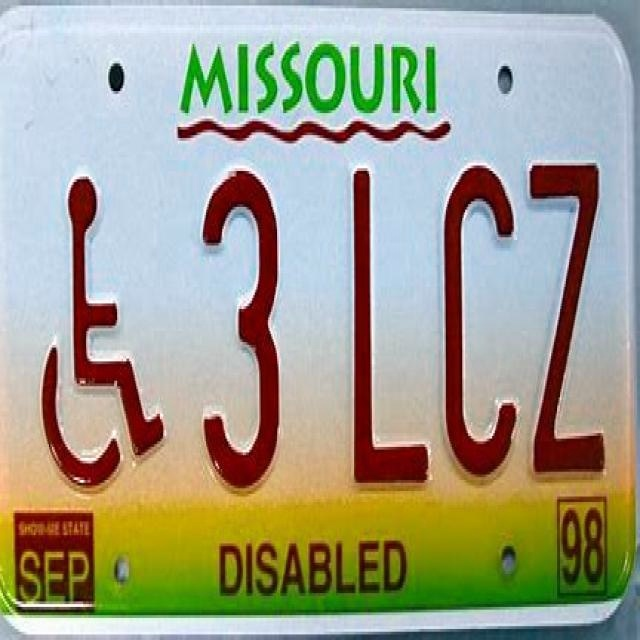ISA: (37, 170, 173, 500)
